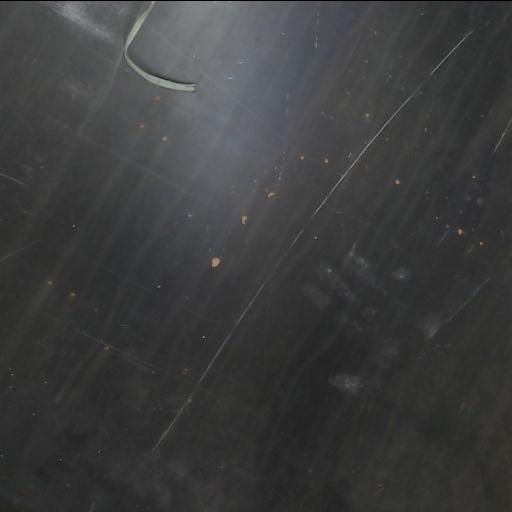conveyor belt: (0, 1, 511, 512)
thread: (124, 1, 196, 91)
